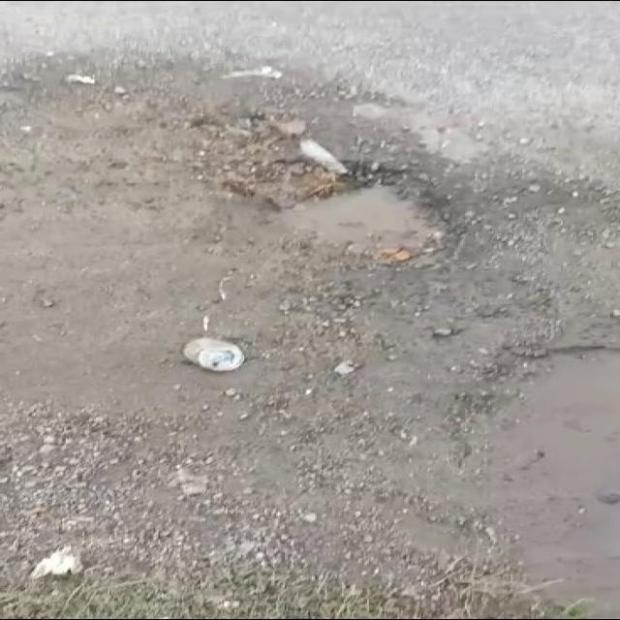lubang: (474, 351, 619, 615), (257, 139, 444, 263)
